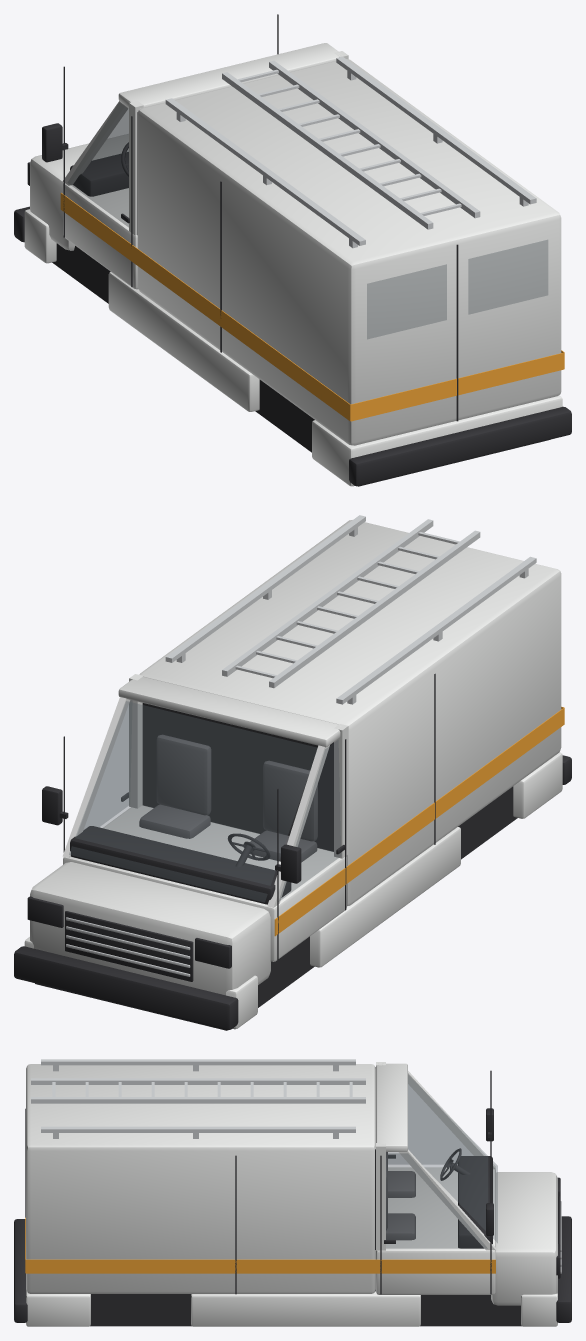
File: van.glb
The picture shows the model from 3 angles, top to bottom: view 1: azimuth 30°, elevation 25°; view 2: azimuth 150°, elevation 25°; view 3: azimuth 270°, elevation 25°; orthographic projection. The views are drawn at different scales.
Visible parts, largest first — view 1: VanBody; view 2: VanBody; view 3: VanBody.
Boxes of the visible parts, x1,y1,x2,y2 form: VanBody: (14, 14, 571, 486); VanBody: (14, 515, 571, 1030); VanBody: (14, 1059, 571, 1326).
Bounding box in the file's own units: 2.4 × 2.2 × 5.58.
